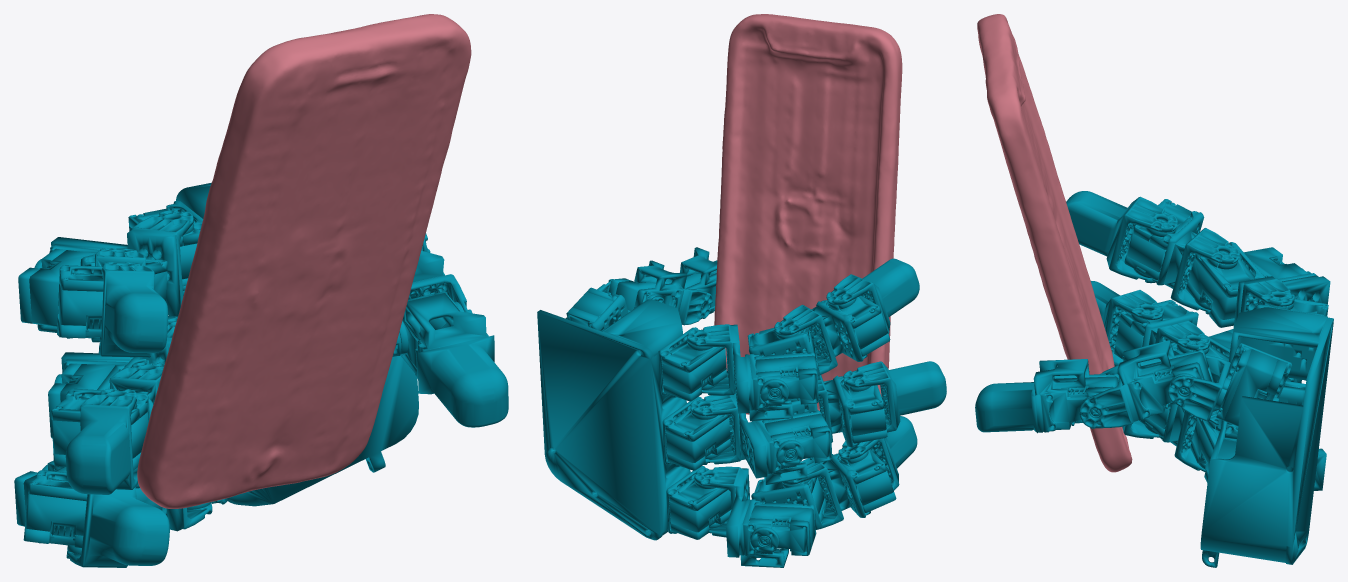
3 views of the same model, side by side, from view 1: azimuth 30°, elevation 25°; view 2: azimuth 150°, elevation 25°; view 3: azimuth 270°, elevation 25° (orthographic). The views are drawn at different scales.
Visible parts, largest first — view 1: world; view 2: world; view 3: world.
Part boxes in pixels (<box>): world: <box>14,14,508,567</box>; world: <box>537,14,946,567</box>; world: <box>975,14,1333,567</box>.
Size of the model in its own units: 0.1992 by 0.2677 by 0.1784.
